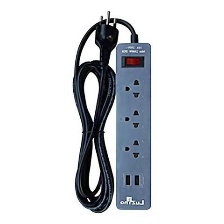three_eye_plug: (113, 40, 155, 211)
